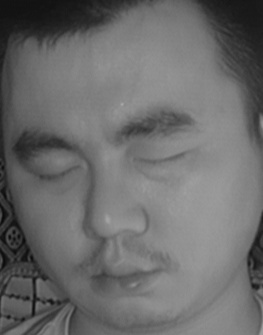blink: (138, 143, 192, 183), (32, 157, 83, 191)
mouth: (86, 250, 166, 302)
